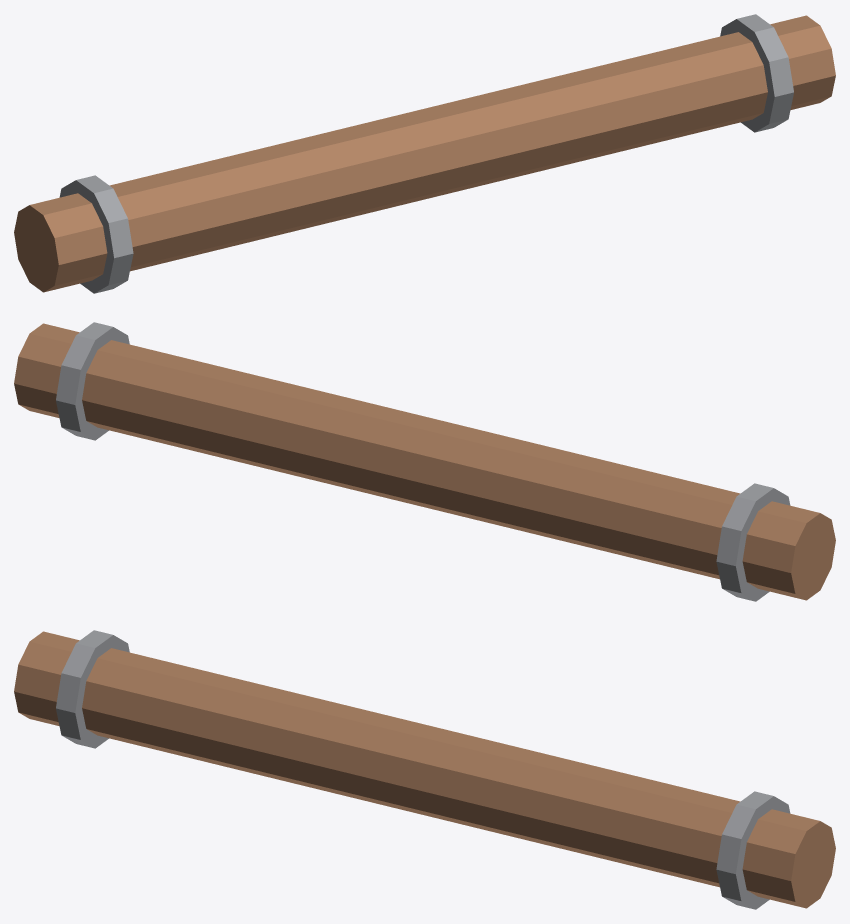
File: pipe_4m.glb
3 views of the same model, one above another, from view 1: azimuth 30°, elevation 25°; view 2: azimuth 150°, elevation 25°; view 3: azimuth 330°, elevation 25° (orthographic).
Parts seen in each view (by area): view 1: pipe_4m; view 2: pipe_4m; view 3: pipe_4m.
Part boxes in pixels (x1,y1,x2,y2): pipe_4m: [14, 14, 835, 293]; pipe_4m: [14, 322, 835, 601]; pipe_4m: [14, 630, 835, 909].
Size of what is drawn, in the model's own units: 4 by 0.4945 by 0.52.
